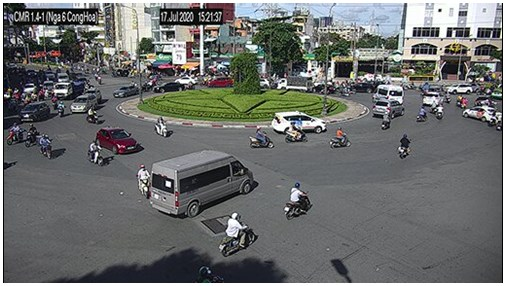xe_hoi: (272, 112, 327, 134), (96, 128, 137, 154), (371, 100, 406, 119), (461, 106, 501, 122), (20, 103, 51, 121), (71, 94, 97, 112), (153, 82, 184, 93), (421, 92, 445, 106), (348, 83, 378, 93), (112, 85, 139, 96), (446, 84, 472, 95), (52, 83, 72, 97), (206, 77, 234, 87), (174, 77, 200, 85), (23, 82, 36, 92), (260, 78, 273, 88), (42, 81, 53, 91)
xe_khach: (151, 149, 253, 216), (373, 84, 404, 103)
xe_may: (220, 211, 256, 255), (285, 181, 311, 220), (250, 126, 275, 150), (285, 121, 308, 144), (137, 164, 151, 200), (88, 139, 105, 166), (330, 128, 350, 150), (397, 133, 411, 161), (38, 133, 52, 159), (7, 123, 23, 145), (25, 121, 37, 149), (154, 117, 168, 139), (417, 105, 428, 122), (432, 104, 444, 119), (382, 111, 391, 130), (57, 102, 65, 117), (445, 91, 452, 104), (97, 74, 105, 85), (454, 93, 460, 106), (52, 94, 57, 109)
xe_tai: (277, 76, 313, 92)
